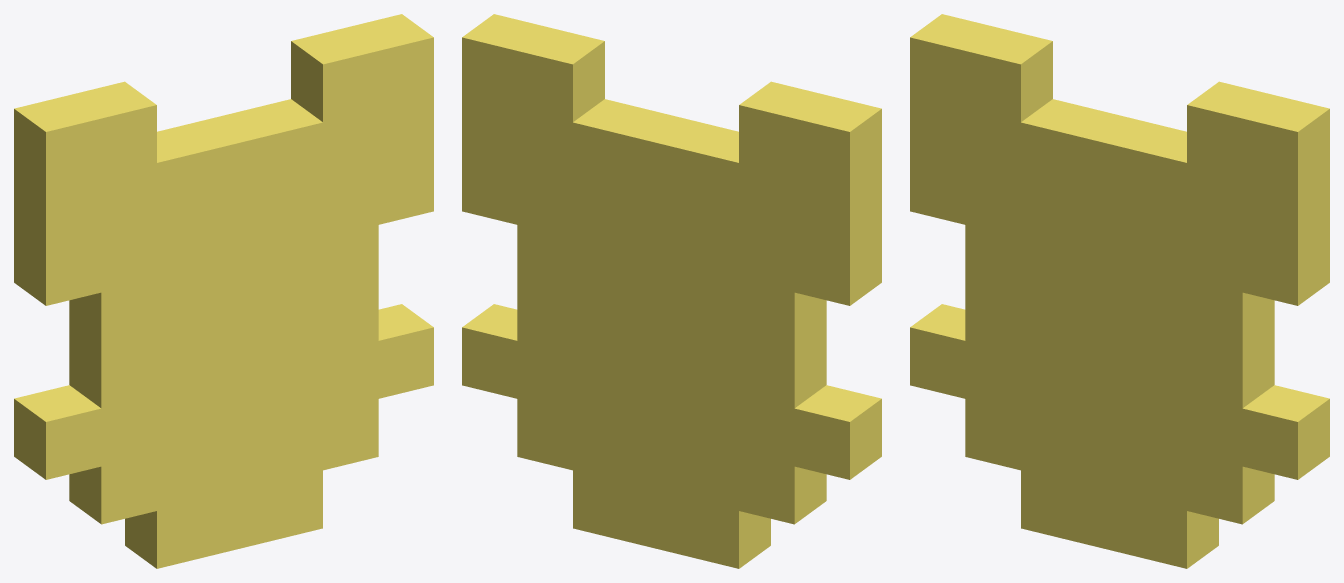
Rendered from Breastplate-Yellow.vox.obj.
3 views of the same model, side by side, from view 1: azimuth 30°, elevation 25°; view 2: azimuth 150°, elevation 25°; view 3: azimuth 330°, elevation 25° (orthographic).
Bounding box in the file's own units: 0.7 × 0.8 × 0.1.
1 material, 1 textured.
